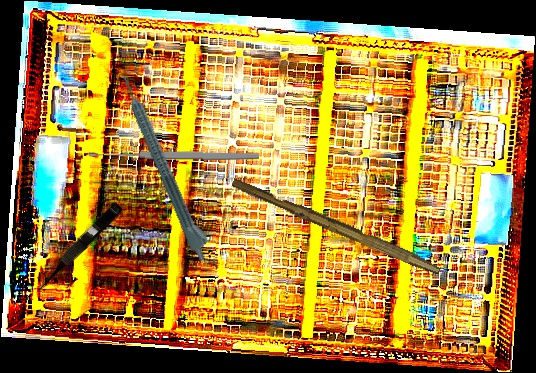Handpiece: (117, 69, 217, 264)
Micro Scissor: (29, 199, 124, 298)
Scalpel Handle: (229, 176, 444, 276)
Surgical Spoon: (88, 148, 260, 162)
